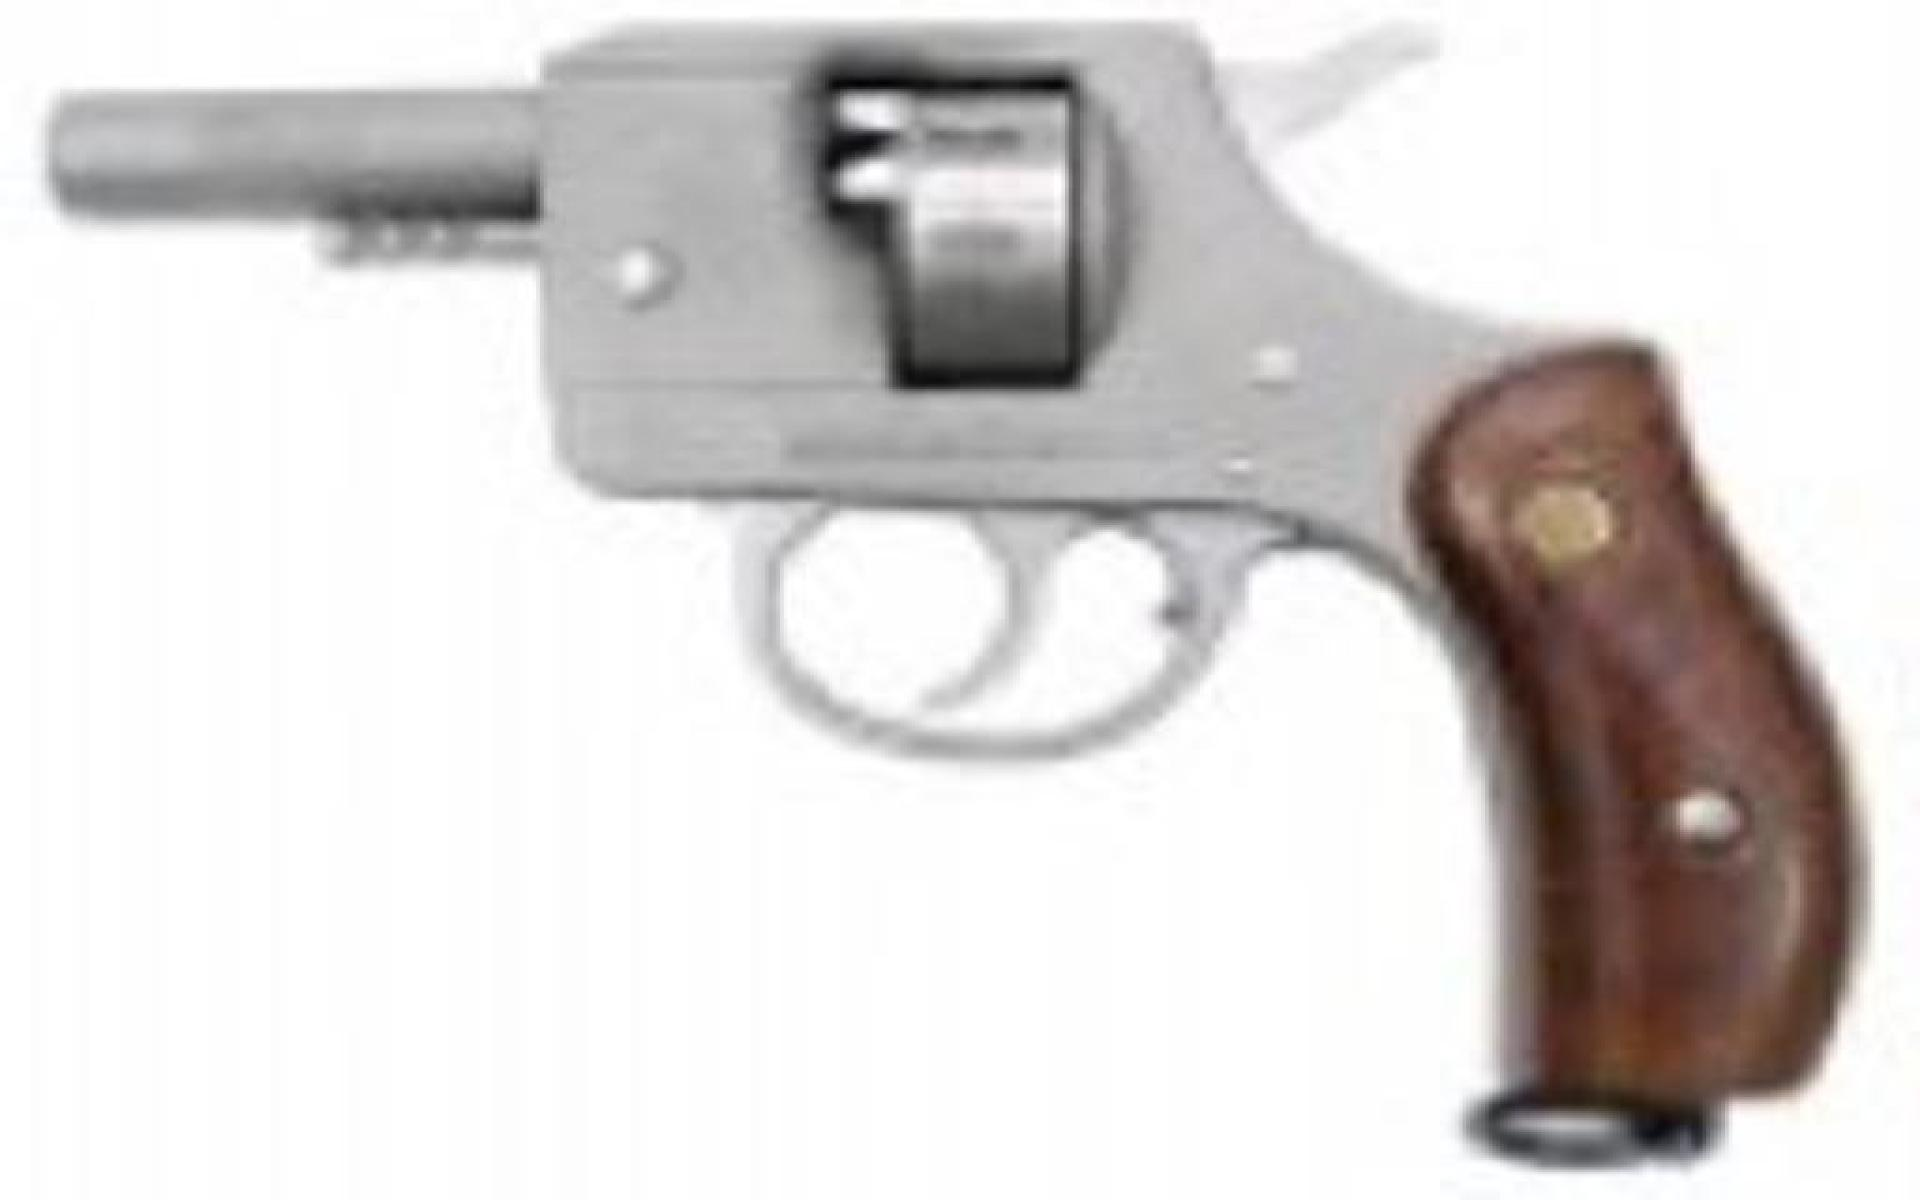gun: (41, 7, 1879, 1127)
